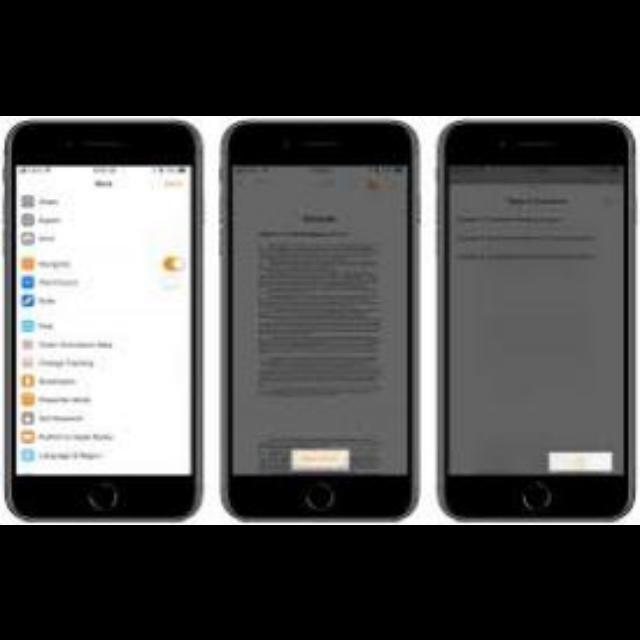phone: (434, 123, 637, 511), (7, 131, 211, 517), (217, 127, 418, 511)
